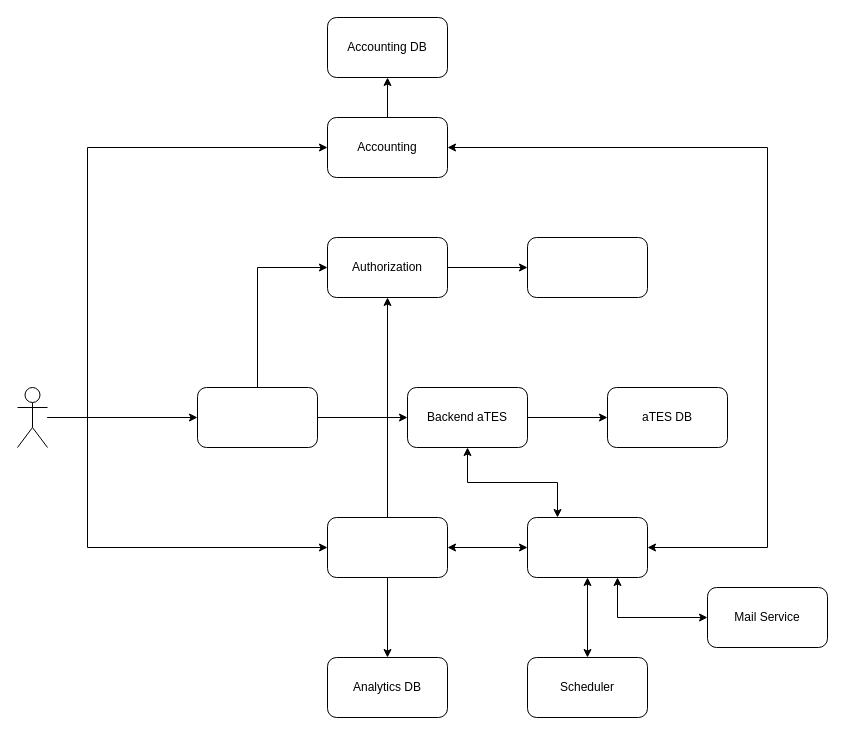
This 845x735 diagram has some shape labels left out. Here are the shapes that lost their labels. From the top down, the centre of each, then its label:
point (587, 267): Auth DB
point (257, 417): Frontend aTES
point (387, 547): Analytics
point (587, 547): Message Broker
